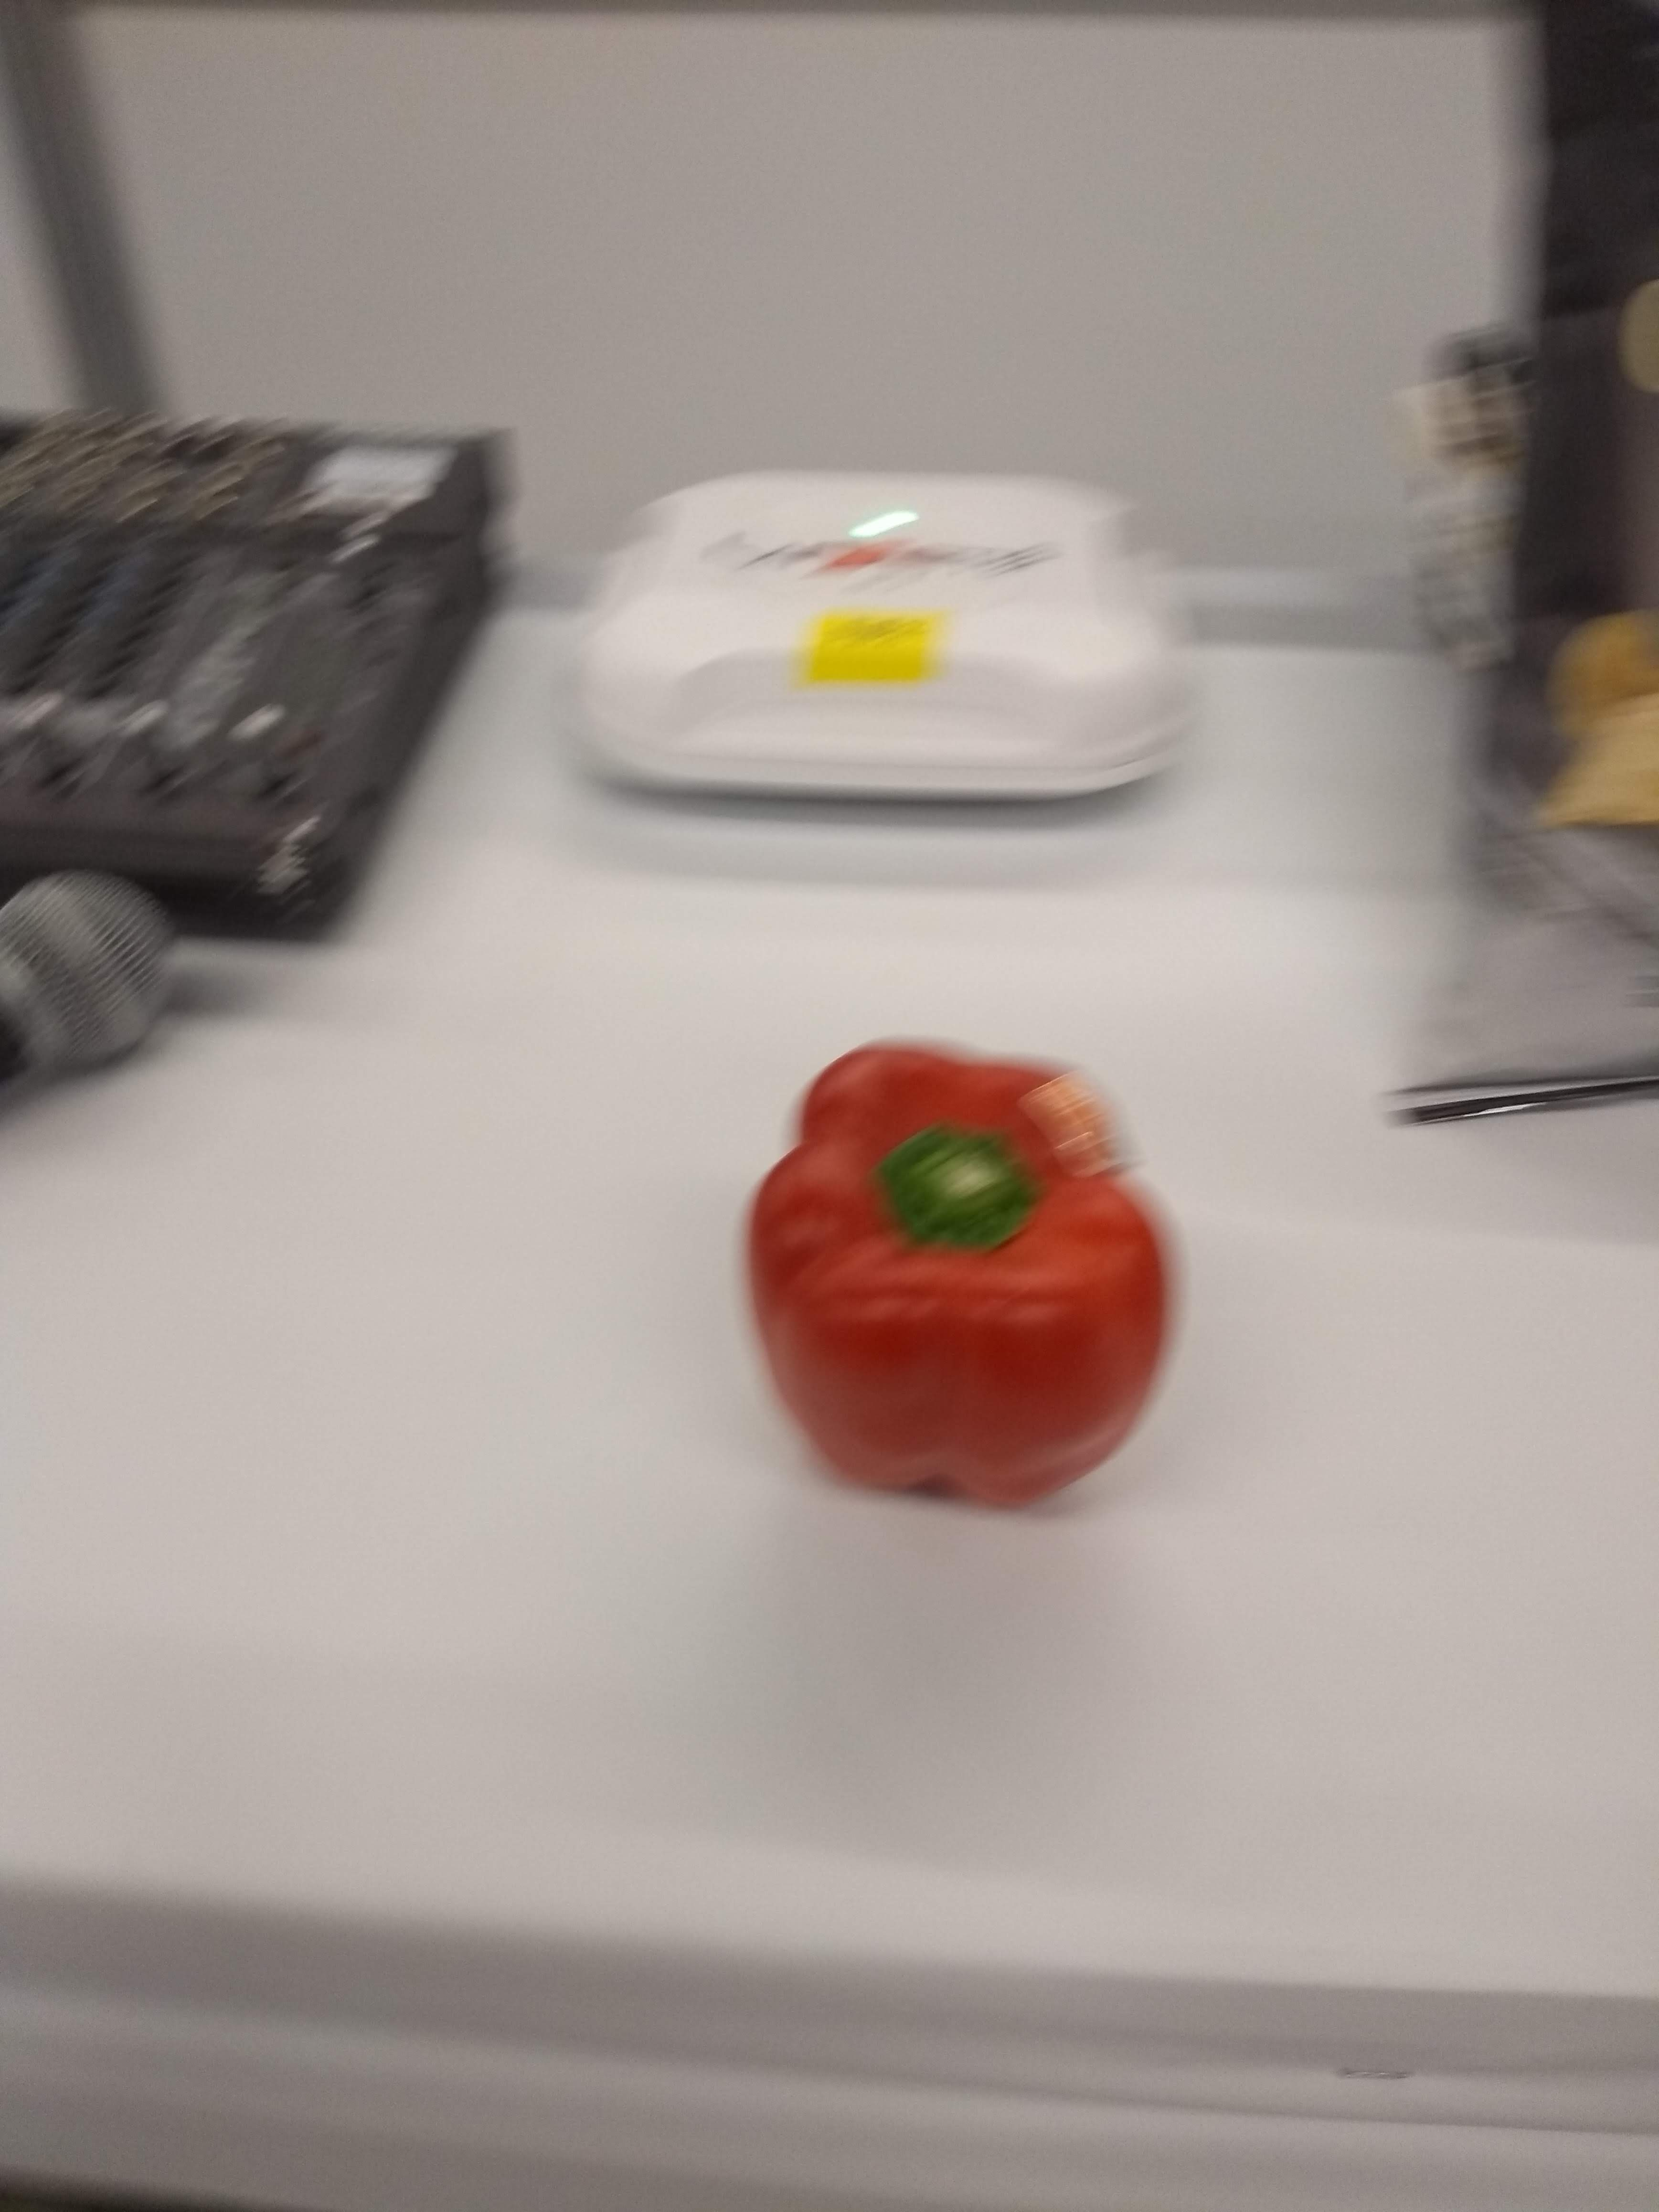paprika: (725, 1043, 1192, 1521)
